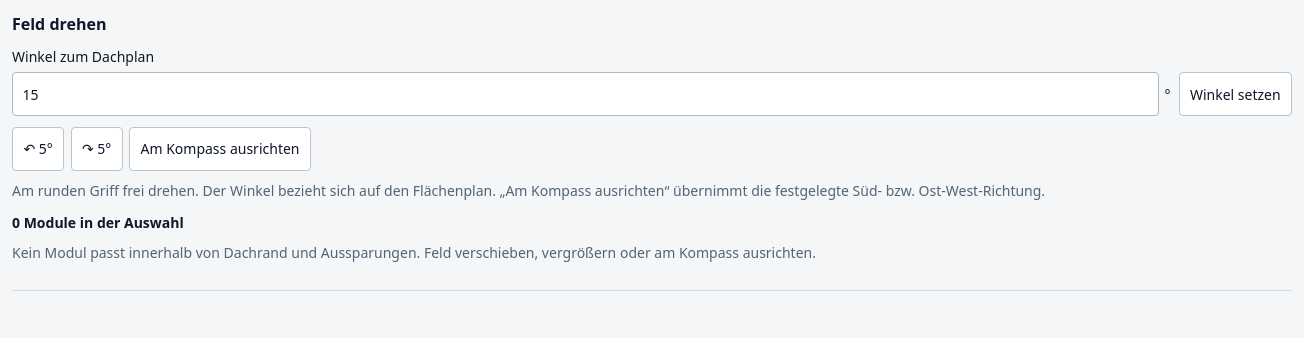
Scenario: Flachdachfeld genau ausrichten › verwirft ungültige Eingabe foo statt still 0° zu setzen
Replace the text in the field named "Felddrehung in Grad" with "foo" at (585, 94), box [12,72,1159,116]
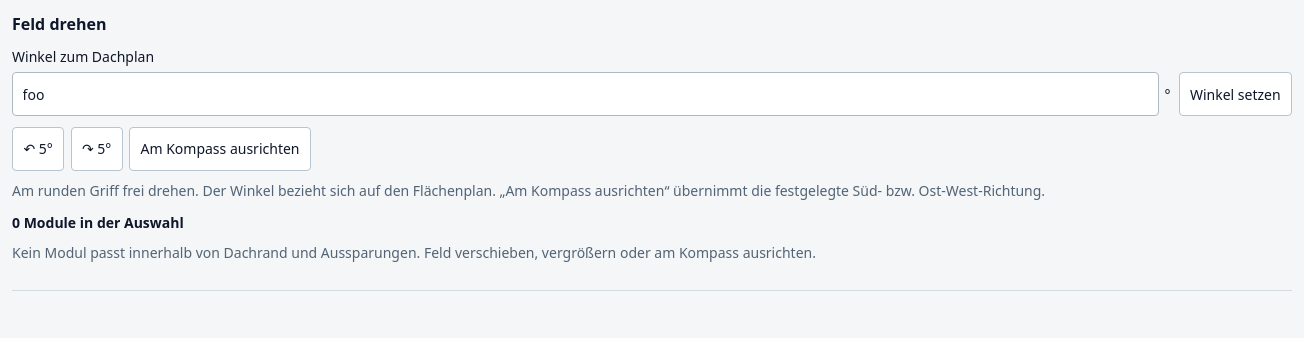
Click the button "Winkel setzen" at (1235, 94), box [1178,72,1292,116]
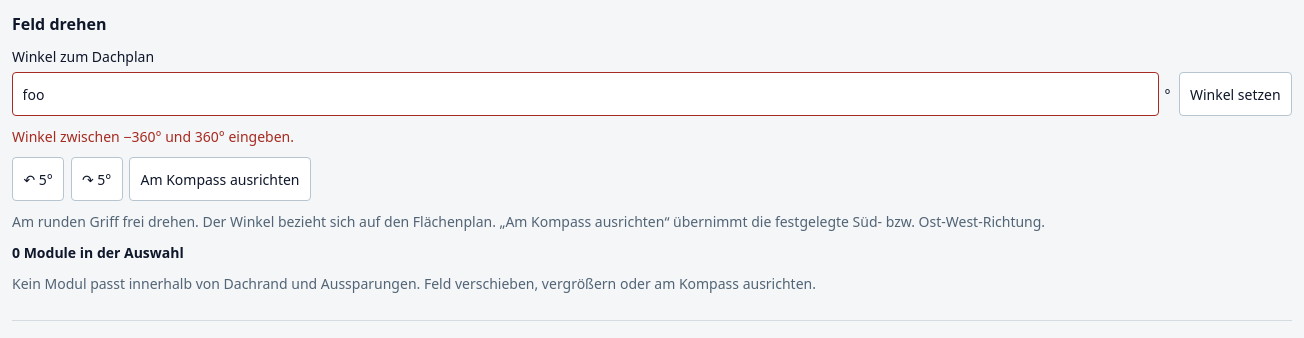
Expected: the message "Winkel zwischen −360° und 360° eingeben." is shown, [12,127,294,146]
